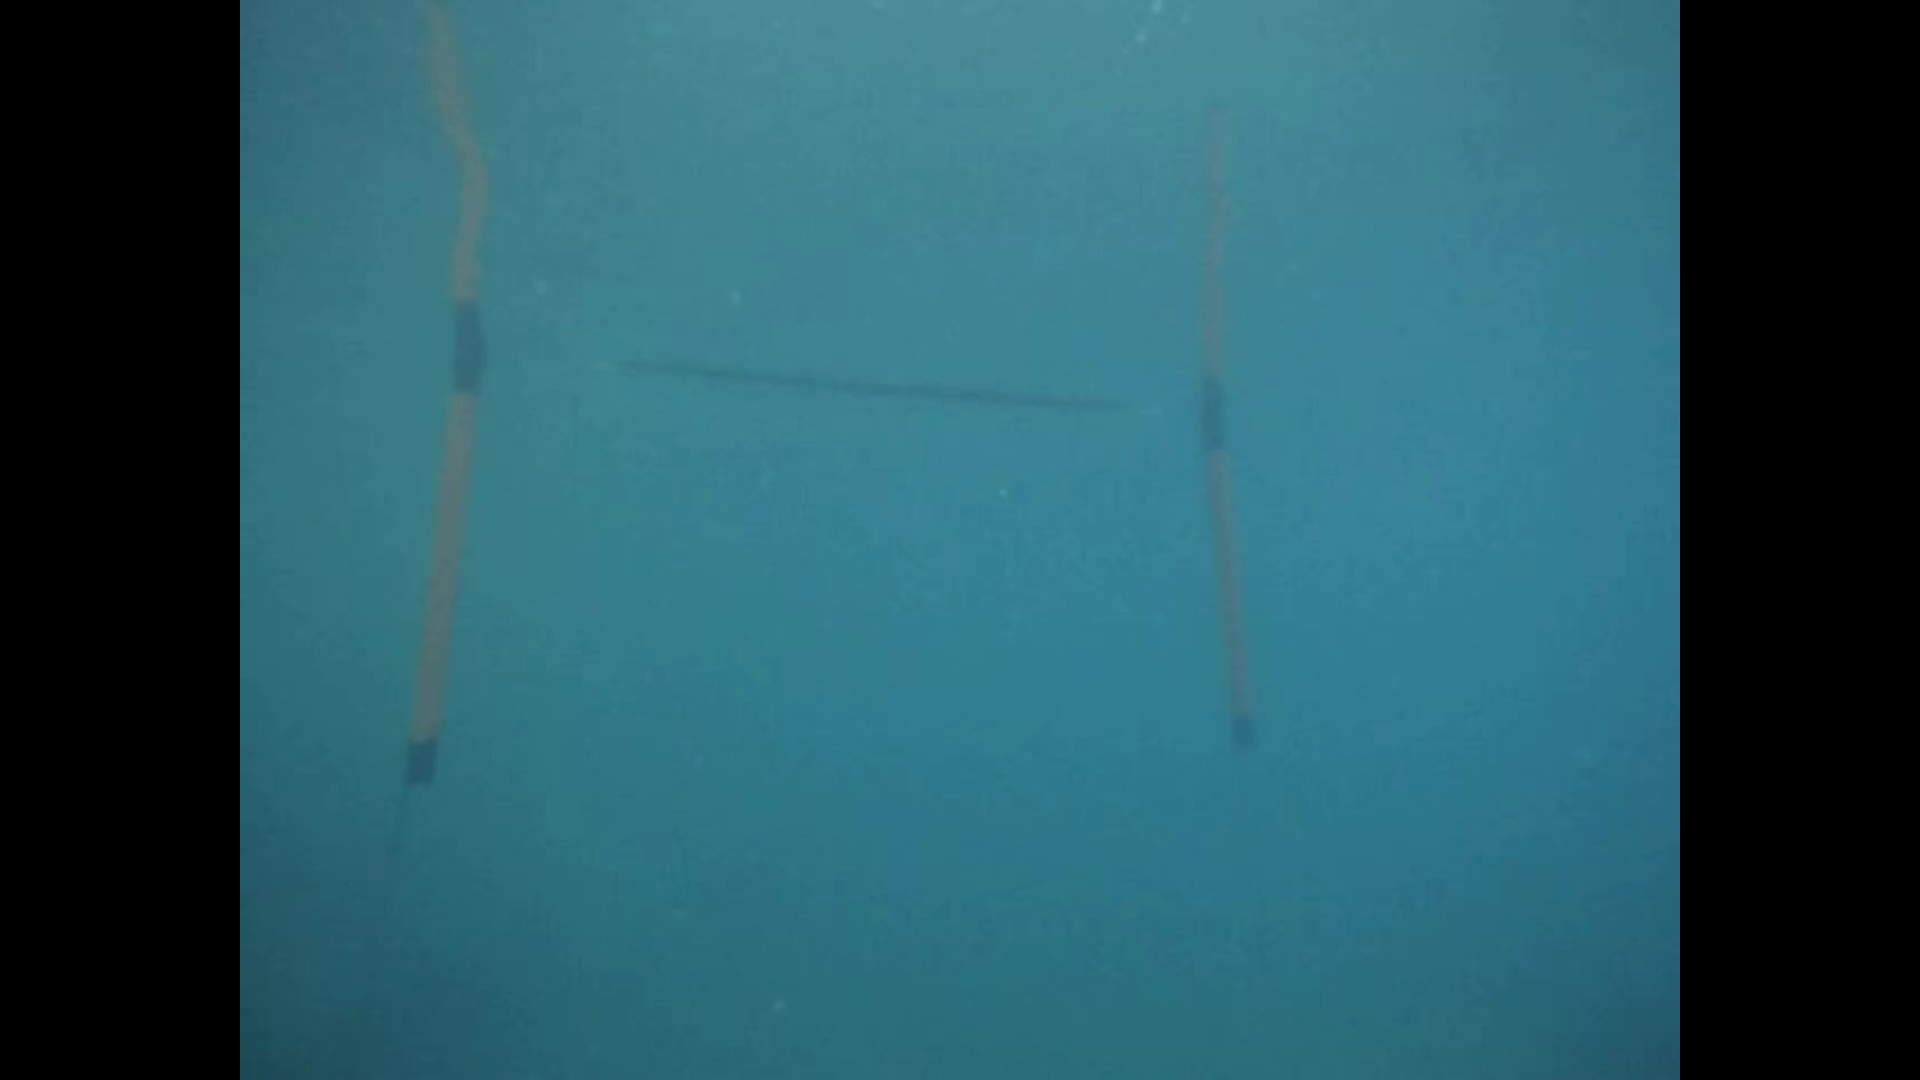gate: (398, 380, 1267, 796)
